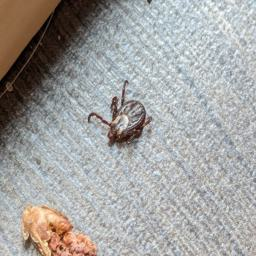Dermacentor variabilis: (87, 79, 152, 145)
